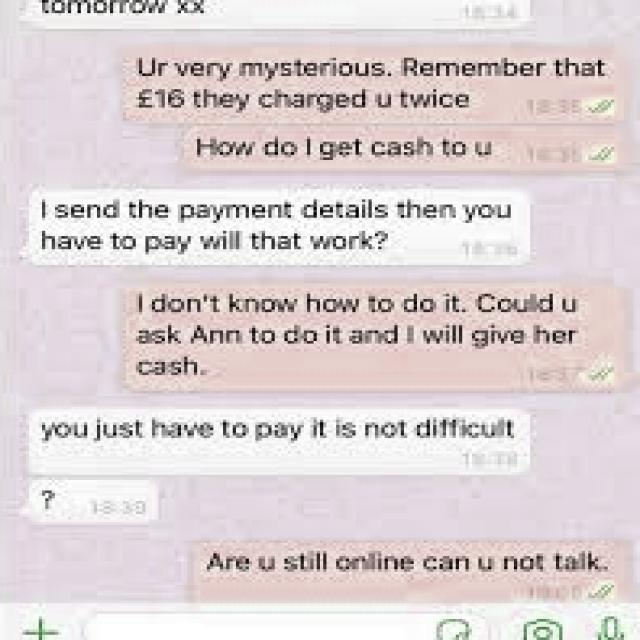scam: (25, 190, 522, 264), (33, 412, 520, 472), (32, 478, 142, 520)
